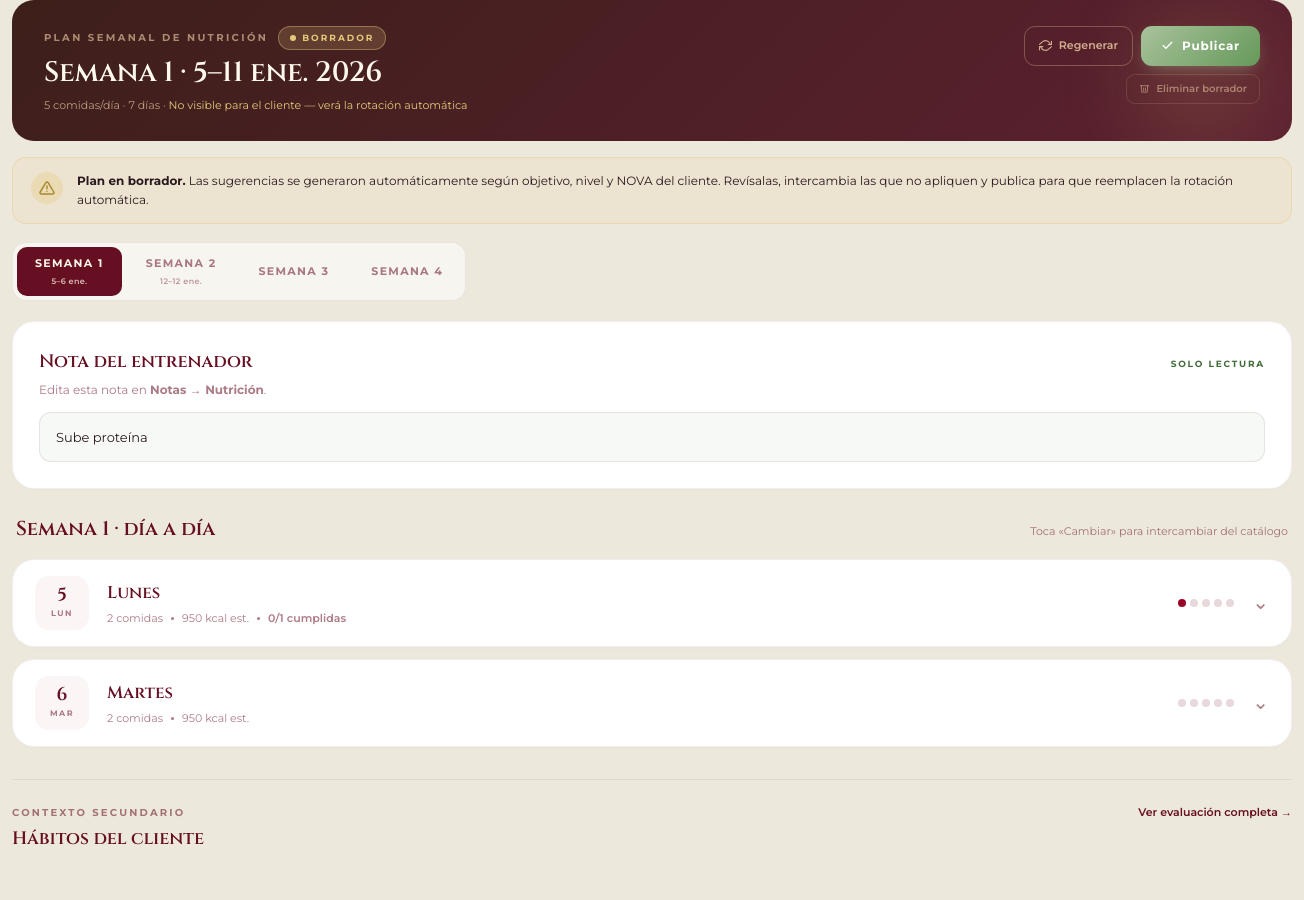
ClientNutritionTab › renders the skipped log status label for a meal entry
Expected: the text "Borrador" is shown, [278,26,386,50]
Click the 1st text "2 comidas" at {"x": 135, "y": 619}, box [107,610,163,628]
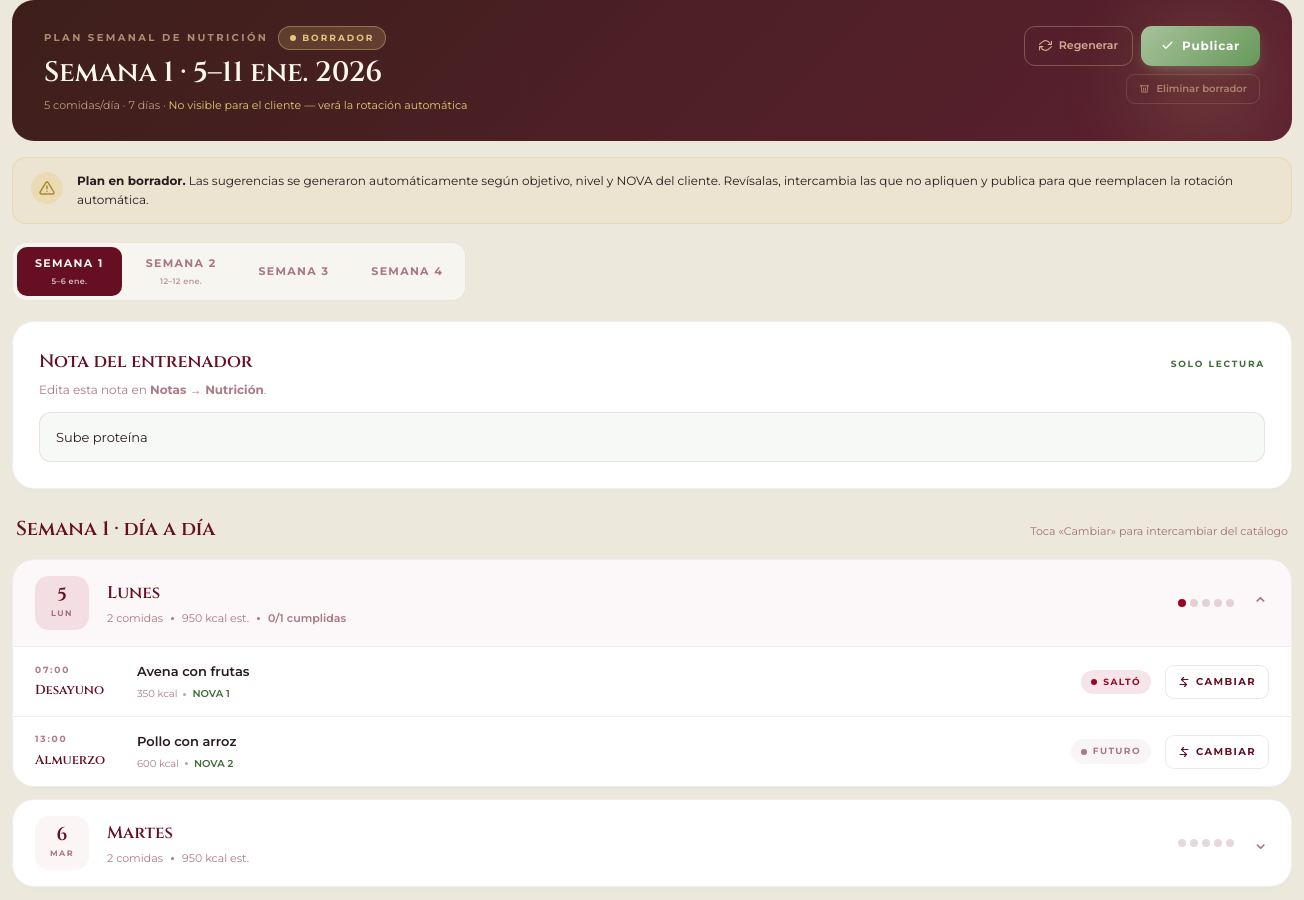
Expected: the text "Saltó" is shown, [1081,670,1151,694]
